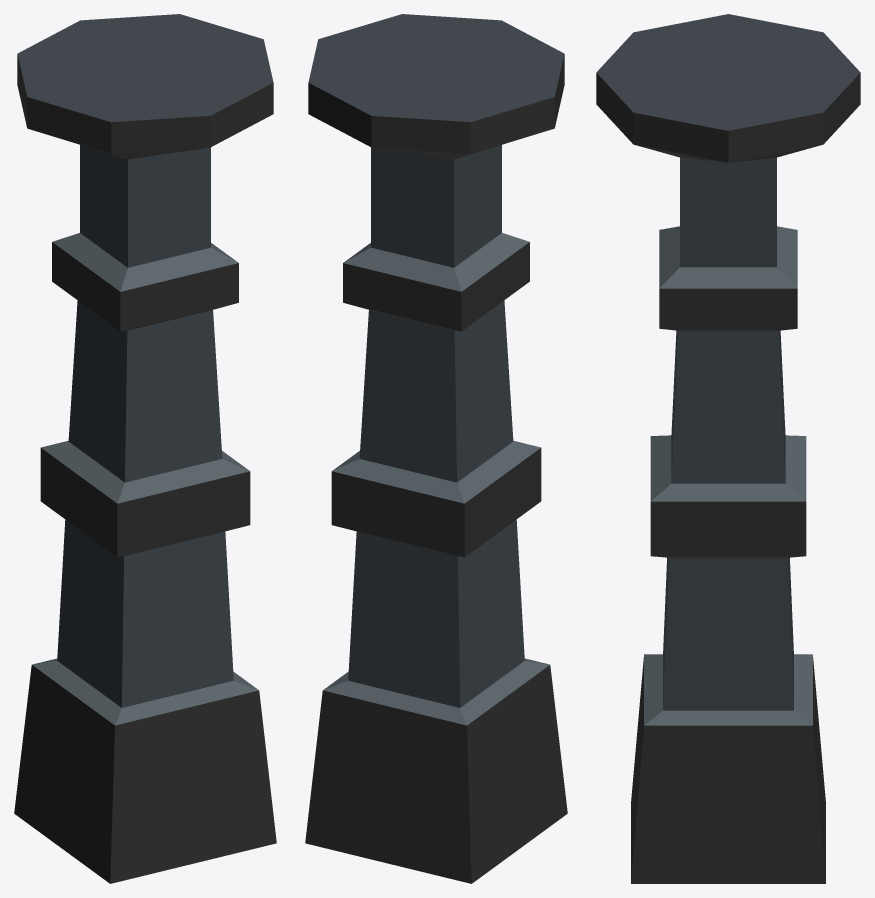
The model's file is RuinBeam04.fbx.
3 views of the same model, side by side, from view 1: azimuth 30°, elevation 25°; view 2: azimuth 150°, elevation 25°; view 3: azimuth 270°, elevation 25° (orthographic).
Visible parts, largest first — view 1: RuinBeam04; view 2: RuinBeam04; view 3: RuinBeam04.
Boxes of the visible parts, x1,y1,x2,y2 form: RuinBeam04: [14, 14, 276, 883]; RuinBeam04: [305, 14, 567, 883]; RuinBeam04: [596, 14, 860, 883].
Bounding box in the file's own units: 129 × 415 × 135.
